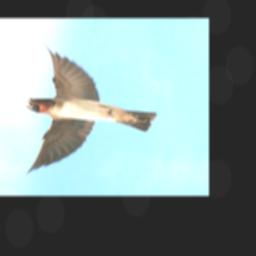Swallow: (11, 43, 171, 182)
